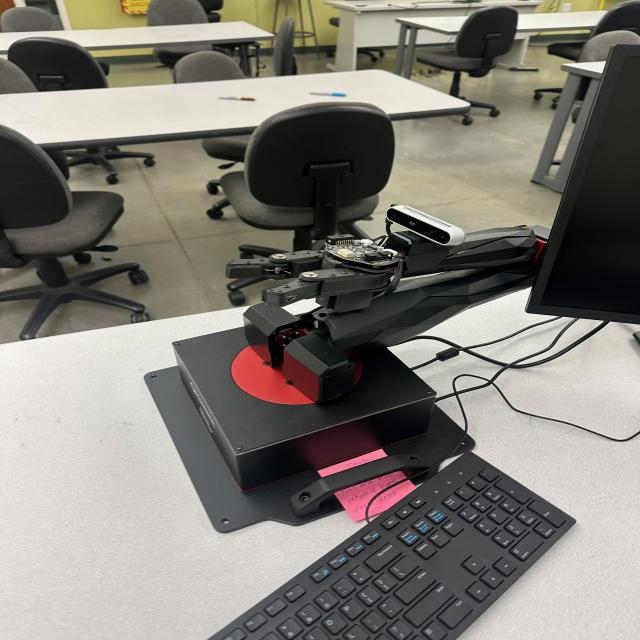monitor: (519, 29, 640, 334)
robotic-arm: (218, 196, 571, 392)
